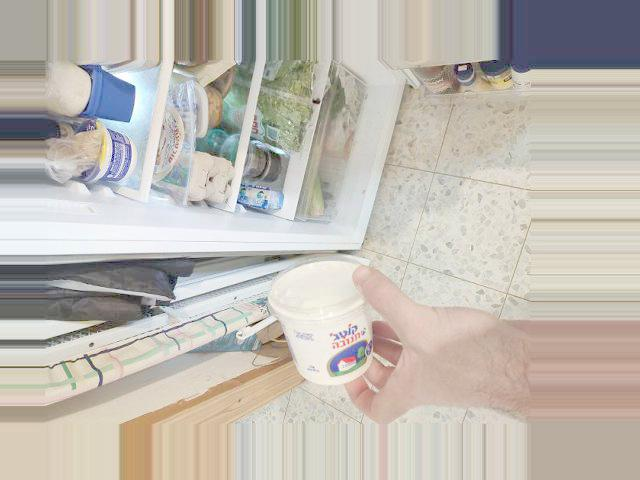cotage: (275, 262, 383, 386)
